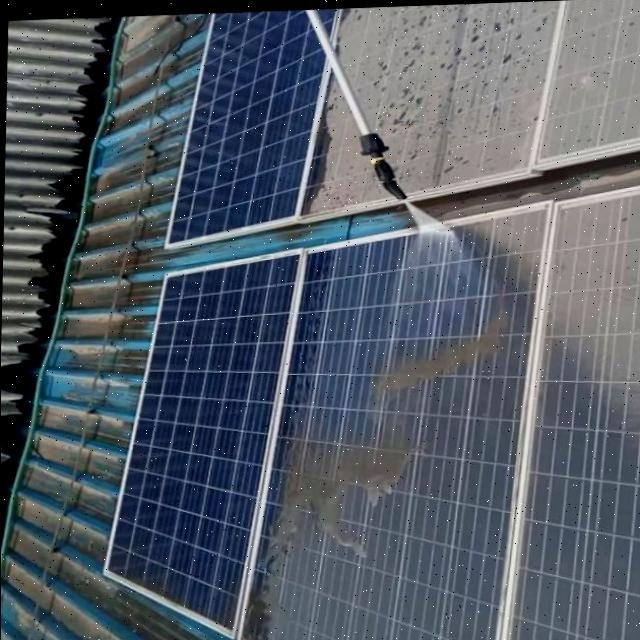Anomaly Solar Panel: (234, 188, 640, 640), (296, 0, 640, 217)
Normal Solar Panel: (102, 246, 300, 634), (161, 6, 332, 243)
Surface Contaminant: (234, 194, 640, 640), (300, 0, 640, 218)
